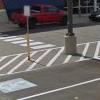Crosswalk: (5, 28, 100, 81)
